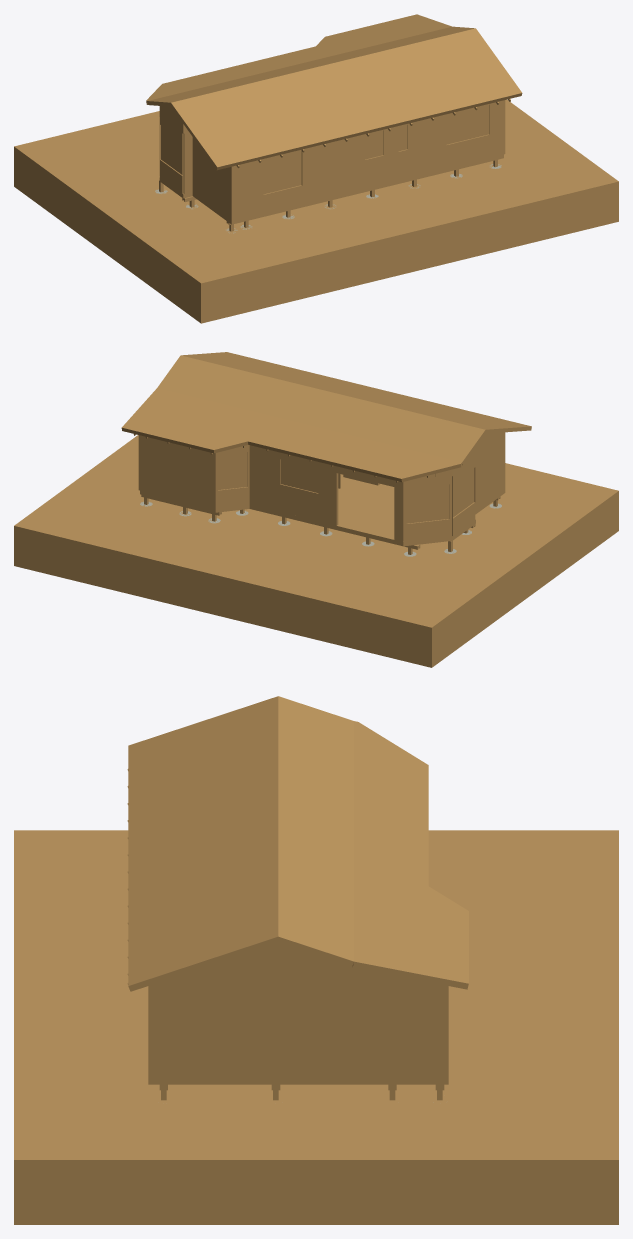
The picture shows the model from 3 angles, top to bottom: view 1: azimuth 30°, elevation 25°; view 2: azimuth 150°, elevation 25°; view 3: azimuth 270°, elevation 25°; orthographic projection. The views are drawn at different scales.
Parts seen in each view (by area): view 1: shape (×20); view 2: shape (×19); view 3: shape (×7).
Boxes of the visible parts, x1=… form: shape (×20): x1=14, y1=14, x2=618, y2=323; shape (×19): x1=14, y1=352, x2=618, y2=667; shape (×7): x1=14, y1=696, x2=618, y2=1224.
Bounding box in the file's own units: 17.4 × 5.91 × 13.5.
